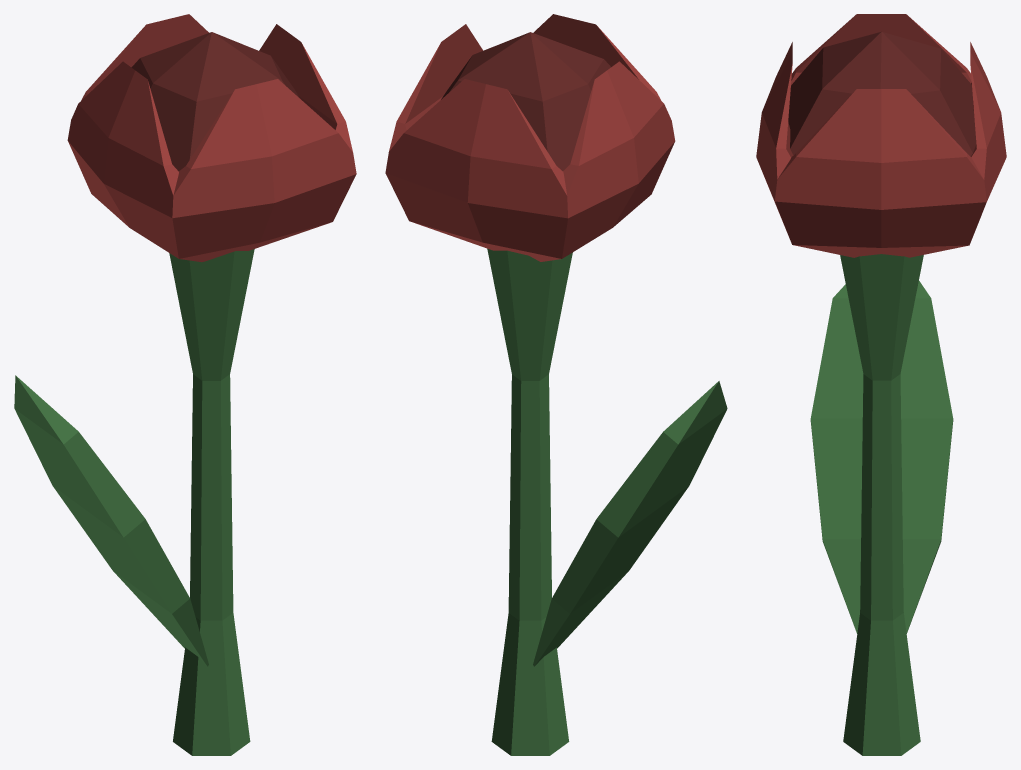
The model's file is Flower_3_Red.fbx.
3 renders of one model, left to right at view 1: azimuth 30°, elevation 25°; view 2: azimuth 150°, elevation 25°; view 3: azimuth 270°, elevation 25°, orthographic.
Parts seen in each view (by area): view 1: Flower_3_Red_Part_2, Flower_3_Red_Part_1, Flower_3_Red_Part_3; view 2: Flower_3_Red_Part_2, Flower_3_Red_Part_1, Flower_3_Red_Part_3; view 3: Flower_3_Red_Part_1, Flower_3_Red_Part_2, Flower_3_Red_Part_3.
Boxes of the visible parts, left/top/right/bottom form: Flower_3_Red_Part_2: left=67, top=14, right=356, bottom=262; Flower_3_Red_Part_1: left=14, top=249, right=254, bottom=755; Flower_3_Red_Part_3: left=131, top=32, right=299, bottom=171; Flower_3_Red_Part_2: left=385, top=14, right=675, bottom=261; Flower_3_Red_Part_1: left=487, top=248, right=727, bottom=755; Flower_3_Red_Part_3: left=441, top=32, right=610, bottom=171; Flower_3_Red_Part_1: left=810, top=254, right=953, bottom=755; Flower_3_Red_Part_2: left=756, top=14, right=1006, bottom=257; Flower_3_Red_Part_3: left=788, top=31, right=976, bottom=156.
Size of the model in its own units: 24.43 by 55 by 17.59.
